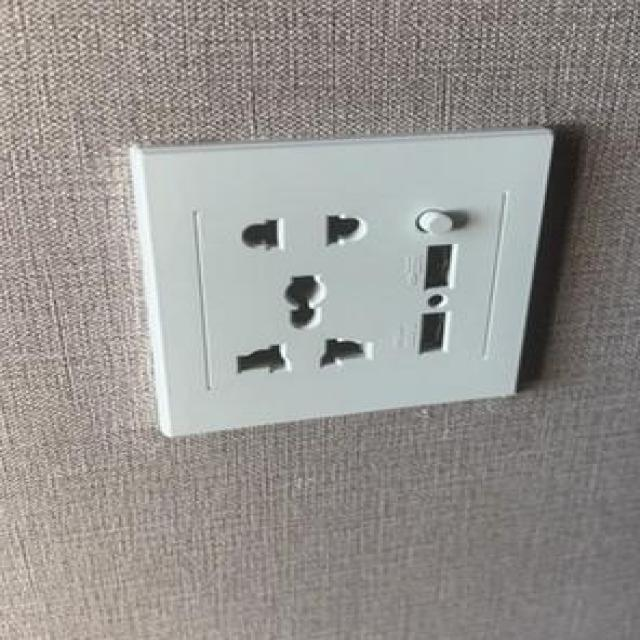hidden camera: (421, 286, 452, 313)
